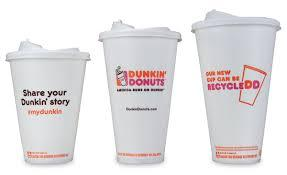Plastic cup: (4, 5, 287, 175)
